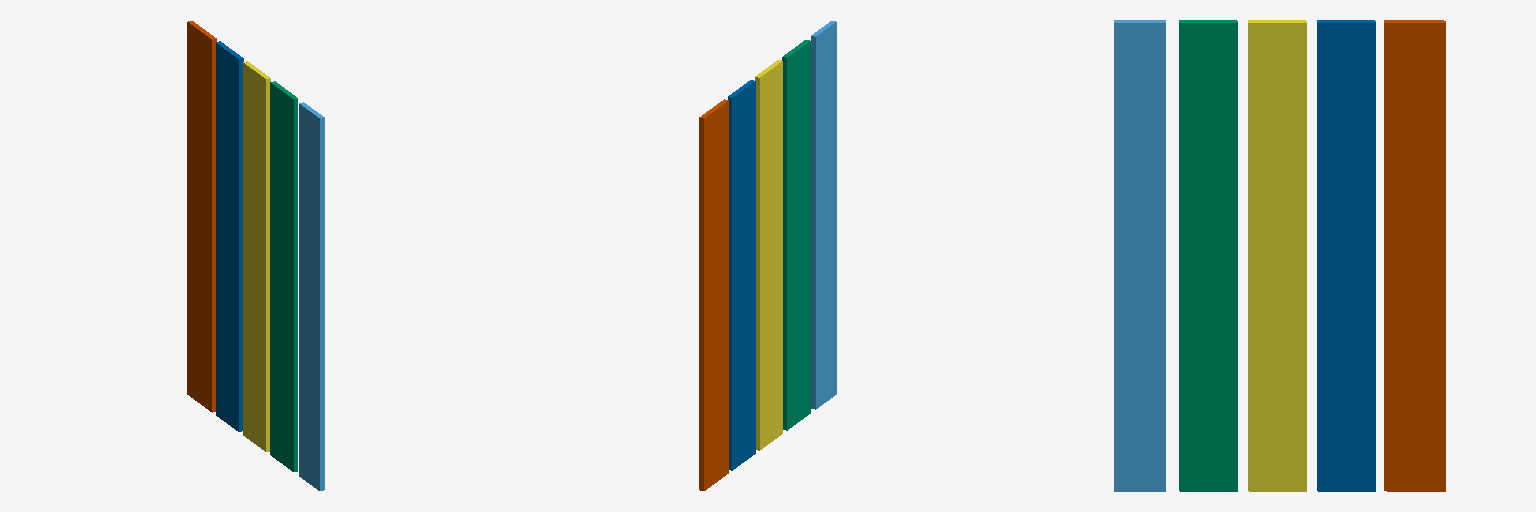
robot.urdf — window_workroom:
<?xml version="1.0" ?>

<robot name="window_workroom">
  
  <gazebo reference="wbase_workroom">
    <material>Gazebo/GrassFloor</material>
  </gazebo>

  <link name="world"/>

  <joint name="wlink_joint_workroom1" type="revolute">
    <axis xyz="0 0 1"/>
    <parent link="world"/>
    <origin rpy="0 0 0" xyz="-0.15 7.375 1.5"/>
    <limit effort="1000.0" lower="-0" upper="1.57" velocity="0.5"/>
    <child link="wlink_workroom1"/>
    <dynamics damping="10" friction="1000"/>
  </joint>
  
  <joint name="wlink_joint_workroom2" type="revolute">
    <axis xyz="0 0 1"/>
    <parent link="world"/>
    <origin rpy="0 0 0" xyz="-0.15 7.575 1.5"/>
    <limit effort="1000.0" lower="-0" upper="1.57" velocity="0.5"/>
    <child link="wlink_workroom2"/>
    <dynamics damping="10" friction="1000"/>
  </joint>
  
  <joint name="wlink_joint_workroom3" type="revolute">
    <axis xyz="0 0 1"/>
    <parent link="world"/>
    <origin rpy="0 0 0" xyz="-0.15 7.775 1.5"/>
    <limit effort="1000.0" lower="-0" upper="1.57" velocity="0.5"/>
    <child link="wlink_workroom3"/>
    <dynamics damping="10" friction="1000"/>
  </joint>
  
  <joint name="wlink_joint_workroom4" type="revolute">
    <axis xyz="0 0 1"/>
    <parent link="world"/>
    <origin rpy="0 0 0" xyz="-0.15 7.975 1.5"/>
    <limit effort="1000.0" lower="-0" upper="1.57" velocity="0.5"/>
    <child link="wlink_workroom4"/>
    <dynamics damping="10" friction="1000"/>
  </joint>
  
  <joint name="wlink_joint_workroom5" type="revolute">
    <axis xyz="0 0 1"/>
    <parent link="world"/>
    <origin rpy="0 0 0" xyz="-0.15 8.175 1.5"/>
    <limit effort="1000.0" lower="-0" upper="1.57" velocity="0.5"/>
    <child link="wlink_workroom5"/>
    <dynamics damping="10" friction="1000"/>
  </joint>
  

  <link name="wlink_workroom1">
    <inertial>
      <mass value="10"/>
      <origin xyz="0 0 0"/>
      <inertia ixx="1.0" ixy="0.0" ixz="0.0" iyy="0.1" iyz="0.0" izz="0.1"/>
    </inertial>
    <visual>
      <origin rpy="0 0 1.57" xyz="0 0 0"/>
      <geometry>
        <box size="0.15 0.02 1.5"/>
      </geometry>
    </visual>
    <collision>
      <origin rpy="0 0 90" xyz="0 0 0"/>
      <geometry>
        <box size="0.15 0.02 1.5"/>
      </geometry>
    </collision>
  </link>
  <gazebo reference="wlink_workroom1">
    <material>Gazebo/RustySteel</material>
    <turnGravityOff>true</turnGravityOff>
  </gazebo>

  <link name="wlink_workroom2">
    <inertial>
      <mass value="10"/>
      <origin xyz="0 0 0"/>
      <inertia ixx="1.0" ixy="0.0" ixz="0.0" iyy="0.1" iyz="0.0" izz="0.1"/>
    </inertial>
    <visual>
      <origin rpy="0 0 1.57" xyz="0 0 0"/>
      <geometry>
        <box size="0.17 0.02 1.5"/>
      </geometry>
    </visual>
    <collision>
      <origin rpy="0 0 90" xyz="0 0 0"/>
      <geometry>
        <box size="0.17 0.02 1.5"/>
      </geometry>
    </collision>
  </link>
  <gazebo reference="wlink_workroom2">
    <material>Gazebo/RustySteel</material>
    <turnGravityOff>true</turnGravityOff>
  </gazebo>
  
  <link name="wlink_workroom3">
    <inertial>
      <mass value="10"/>
      <origin xyz="0 0 0"/>
      <inertia ixx="1.0" ixy="0.0" ixz="0.0" iyy="0.1" iyz="0.0" izz="0.1"/>
    </inertial>
    <visual>
      <origin rpy="0 0 1.57" xyz="0 0 0"/>
      <geometry>
        <box size="0.17 0.02 1.5"/>
      </geometry>
    </visual>
    <collision>
      <origin rpy="0 0 90" xyz="0 0 0"/>
      <geometry>
        <box size="0.17 0.02 1.5"/>
      </geometry>
    </collision>
  </link>
  <gazebo reference="wlink_workroom3">
    <material>Gazebo/RustySteel</material>
    <turnGravityOff>true</turnGravityOff>
  </gazebo>
  
  <link name="wlink_workroom4">
    <inertial>
      <mass value="10"/>
      <origin xyz="0 0 0"/>
      <inertia ixx="1.0" ixy="0.0" ixz="0.0" iyy="0.1" iyz="0.0" izz="0.1"/>
    </inertial>
    <visual>
      <origin rpy="0 0 1.57" xyz="0 0 0"/>
      <geometry>
        <box size="0.17 0.02 1.5"/>
      </geometry>
    </visual>
    <collision>
      <origin rpy="0 0 90" xyz="0 0 0"/>
      <geometry>
        <box size="0.17 0.02 1.5"/>
      </geometry>
    </collision>
  </link>
  <gazebo reference="wlink_workroom4">
    <material>Gazebo/RustySteel</material>
    <turnGravityOff>true</turnGravityOff>
  </gazebo>
  
  <link name="wlink_workroom5">
    <inertial>
      <mass value="10"/>
      <origin xyz="0 0 0"/>
      <inertia ixx="1.0" ixy="0.0" ixz="0.0" iyy="0.1" iyz="0.0" izz="0.1"/>
    </inertial>
    <visual>
      <origin rpy="0 0 1.57" xyz="0 0 0"/>
      <geometry>
        <box size="0.18 0.02 1.5"/>
      </geometry>
    </visual>
    <collision>
      <origin rpy="0 0 90" xyz="0 0 0"/>
      <geometry>
        <box size="0.18 0.02 1.5"/>
      </geometry>
    </collision>
  </link>
  <gazebo reference="wlink_workroom5">
    <material>Gazebo/RustySteel</material>
    <turnGravityOff>true</turnGravityOff>
  </gazebo>

</robot>

--- Render facts (derived) ---
3 views of the same robot in one strip: view 1: azimuth 30°, elevation 25°; view 2: azimuth 150°, elevation 25°; view 3: azimuth 270°, elevation 25° (orthographic).
Model window_workroom with 6 links and 5 joints (5 revolute), rooted at world, posed all joints at 0.
Links seen in each view (by area): view 1: wlink_workroom5, wlink_workroom2, wlink_workroom3, wlink_workroom4, wlink_workroom1; view 2: wlink_workroom5, wlink_workroom2, wlink_workroom3, wlink_workroom4, wlink_workroom1; view 3: wlink_workroom5, wlink_workroom2, wlink_workroom3, wlink_workroom4, wlink_workroom1.
Boxes of the visible links, x1,y1,x2,y2 form: wlink_workroom5: (187, 21, 216, 412); wlink_workroom2: (270, 81, 297, 471); wlink_workroom3: (243, 61, 270, 451); wlink_workroom4: (216, 41, 243, 431); wlink_workroom1: (299, 102, 324, 490); wlink_workroom5: (699, 99, 728, 490); wlink_workroom2: (782, 40, 810, 430); wlink_workroom3: (755, 60, 782, 450); wlink_workroom4: (728, 80, 755, 470); wlink_workroom1: (811, 21, 836, 409); wlink_workroom5: (1384, 20, 1445, 491); wlink_workroom2: (1179, 20, 1237, 491); wlink_workroom3: (1248, 20, 1306, 491); wlink_workroom4: (1317, 20, 1375, 491); wlink_workroom1: (1114, 20, 1165, 491).
Size in the robot's own frame: 0.0201 by 0.965 by 1.5 metres.
Geometry: primitives only (box / cylinder / sphere), no mesh files.
